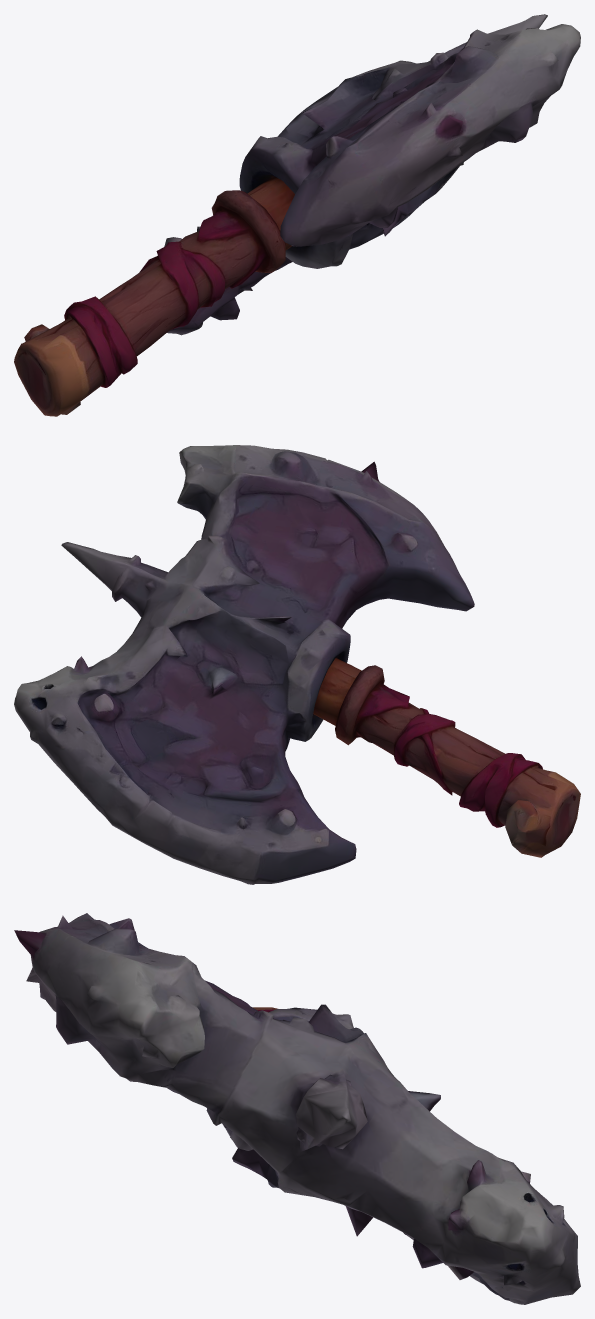
Rendered from mace.glb.
3 views of the same model, one above another, from view 1: azimuth 30°, elevation 25°; view 2: azimuth 150°, elevation 25°; view 3: azimuth 270°, elevation 25° (orthographic). The views are drawn at different scales.
Visible parts, largest first — view 1: tripo_node_334df830-e4ea-4d75-8790-19bbb925aa41; view 2: tripo_node_334df830-e4ea-4d75-8790-19bbb925aa41; view 3: tripo_node_334df830-e4ea-4d75-8790-19bbb925aa41.
Boxes of the visible parts, bbox=[...] form: tripo_node_334df830-e4ea-4d75-8790-19bbb925aa41: bbox=[14, 14, 580, 416]; tripo_node_334df830-e4ea-4d75-8790-19bbb925aa41: bbox=[14, 445, 580, 884]; tripo_node_334df830-e4ea-4d75-8790-19bbb925aa41: bbox=[14, 913, 580, 1304].
Size of the model in its own units: 1 by 0.6076 by 0.7381.
1 material, 1 textured.
